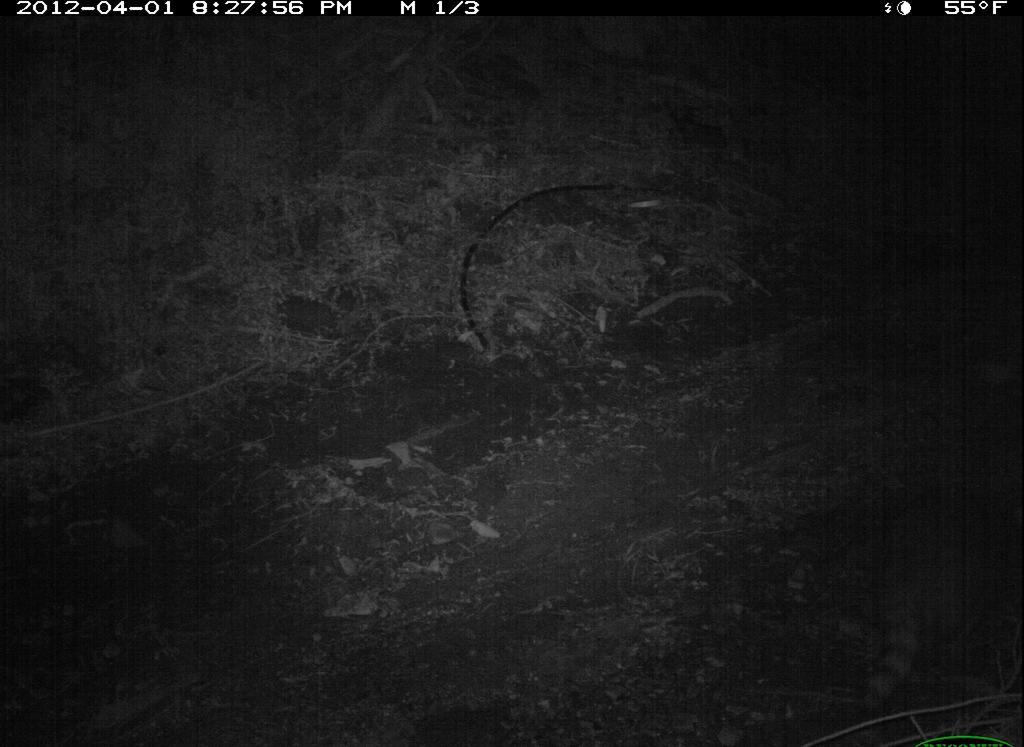raccoon: (845, 500, 1005, 729)
